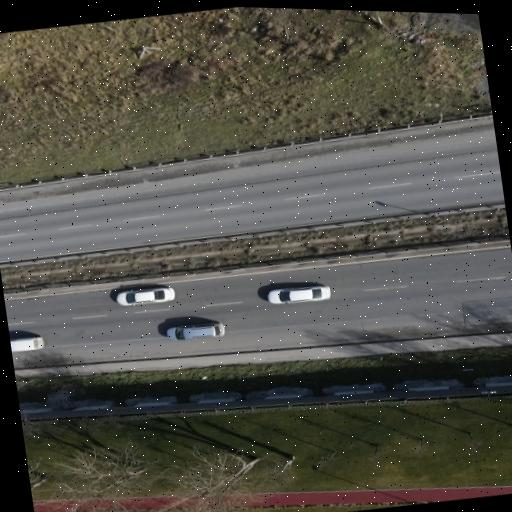car: (268, 286, 331, 303), (167, 323, 224, 341), (117, 288, 175, 305), (10, 337, 44, 352)
